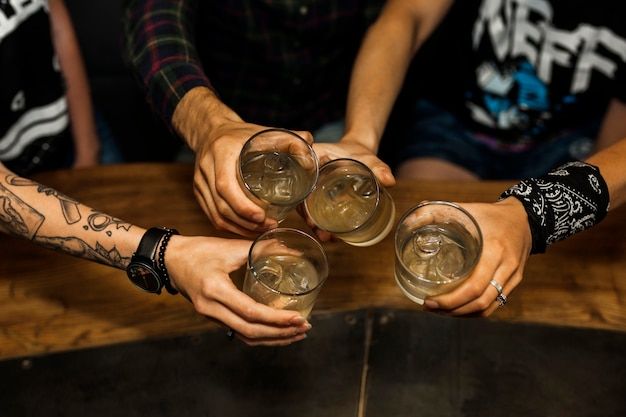alcohol: (389, 200, 487, 307), (242, 228, 325, 338), (301, 157, 397, 247), (235, 130, 320, 227)
